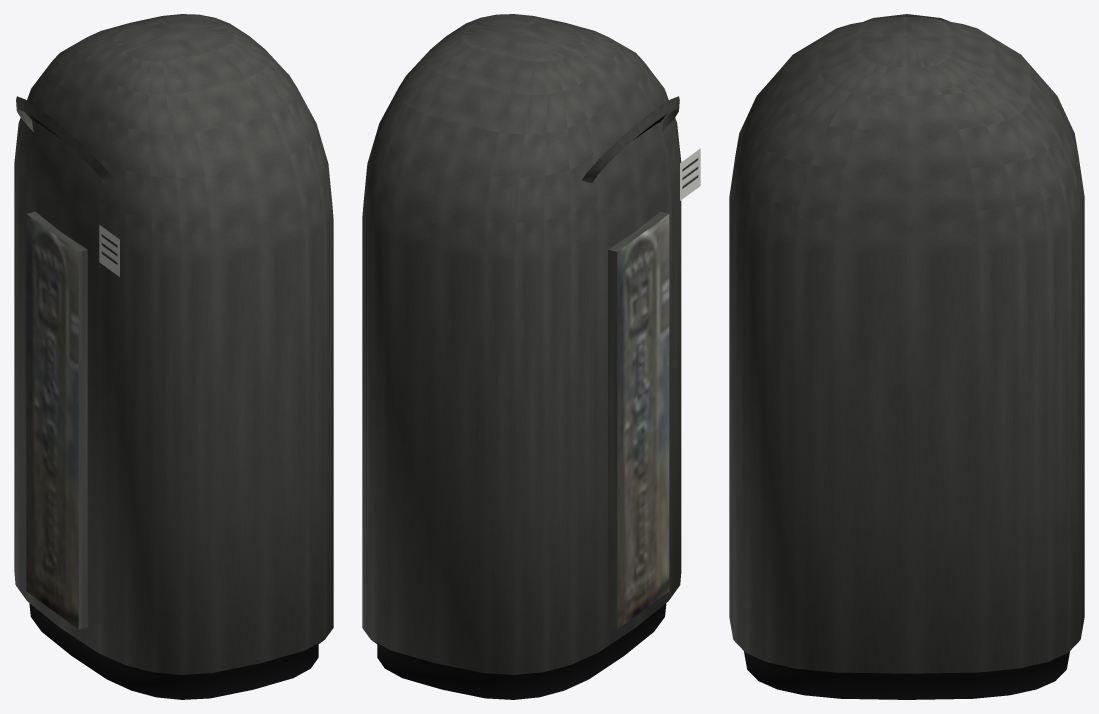
Rendered from SM_Morin_Cestino_v2.fbx.
The picture shows the model from 3 angles, left to right: view 1: azimuth 30°, elevation 25°; view 2: azimuth 150°, elevation 25°; view 3: azimuth 270°, elevation 25°; orthographic projection. The views are drawn at different scales.
Parts seen in each view (by area): view 1: SM_Morin_Cestino_v2; view 2: SM_Morin_Cestino_v2; view 3: SM_Morin_Cestino_v2.
Part boxes in pixels (left/top/right/bottom): SM_Morin_Cestino_v2: left=14, top=14, right=333, bottom=699; SM_Morin_Cestino_v2: left=362, top=14, right=700, bottom=699; SM_Morin_Cestino_v2: left=729, top=14, right=1084, bottom=699.
Size of what is drawn, in the model's own units: 41.39 by 50 by 95.
Materials: 1 (1 with a texture image).
